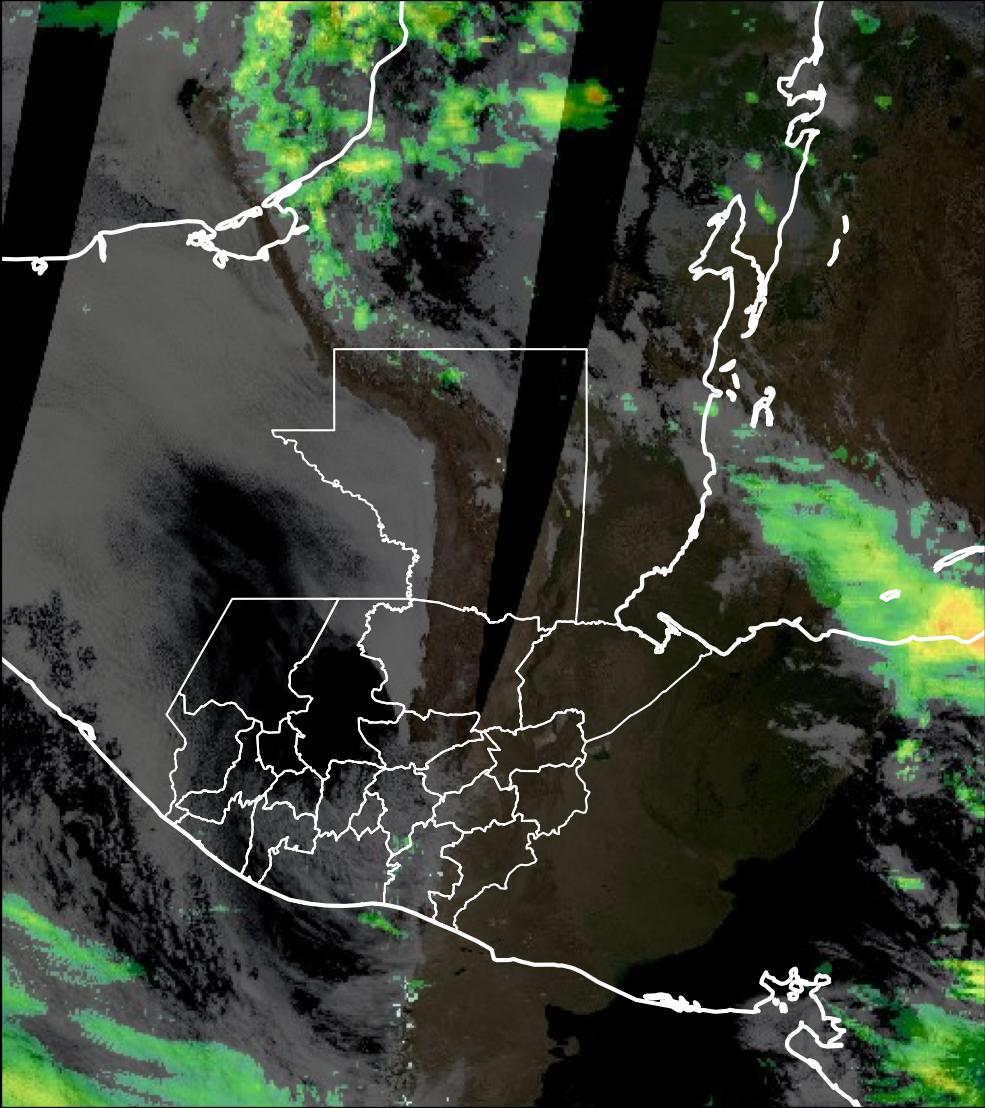precipitacion: (915, 576, 985, 664)
